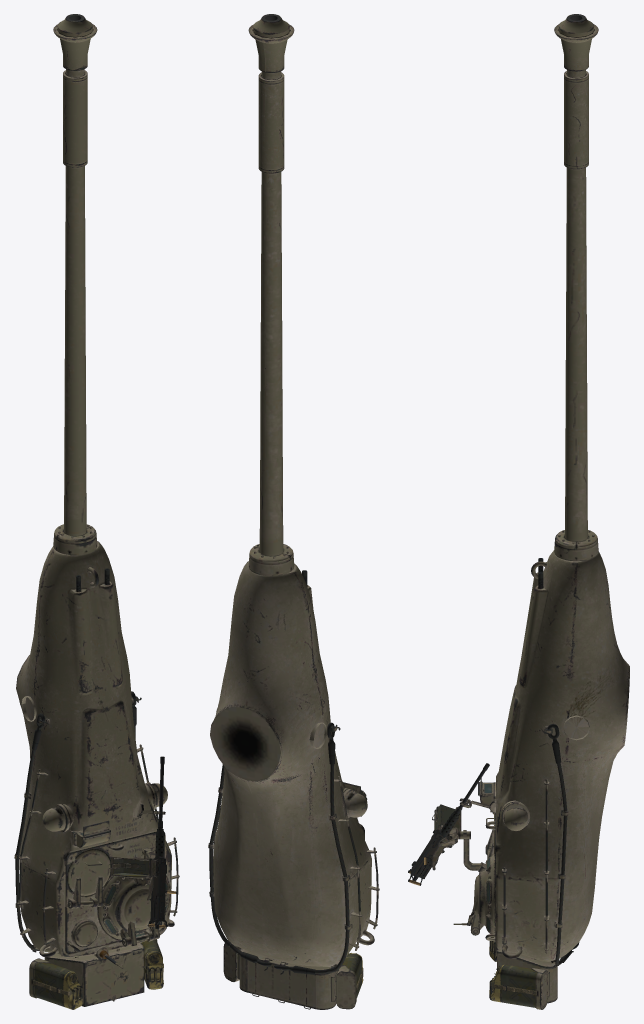
File: Gun_01.glb
3 renders of one model, left to right at view 1: azimuth 30°, elevation 25°; view 2: azimuth 150°, elevation 25°; view 3: azimuth 270°, elevation 25°, orthographic. The views are drawn at different scales.
Parts seen in each view (by area): view 1: set_0_group_0; view 2: set_0_group_0; view 3: set_0_group_0.
Boxes of the visible parts, x1,y1,x2,y2 form: set_0_group_0: (14,14,179,1009); set_0_group_0: (208,14,379,1009); set_0_group_0: (408,14,629,1009).
Bounding box in the file's own units: 1.6 × 10.11 × 2.1.
Materials: 1 (1 with a texture image).
